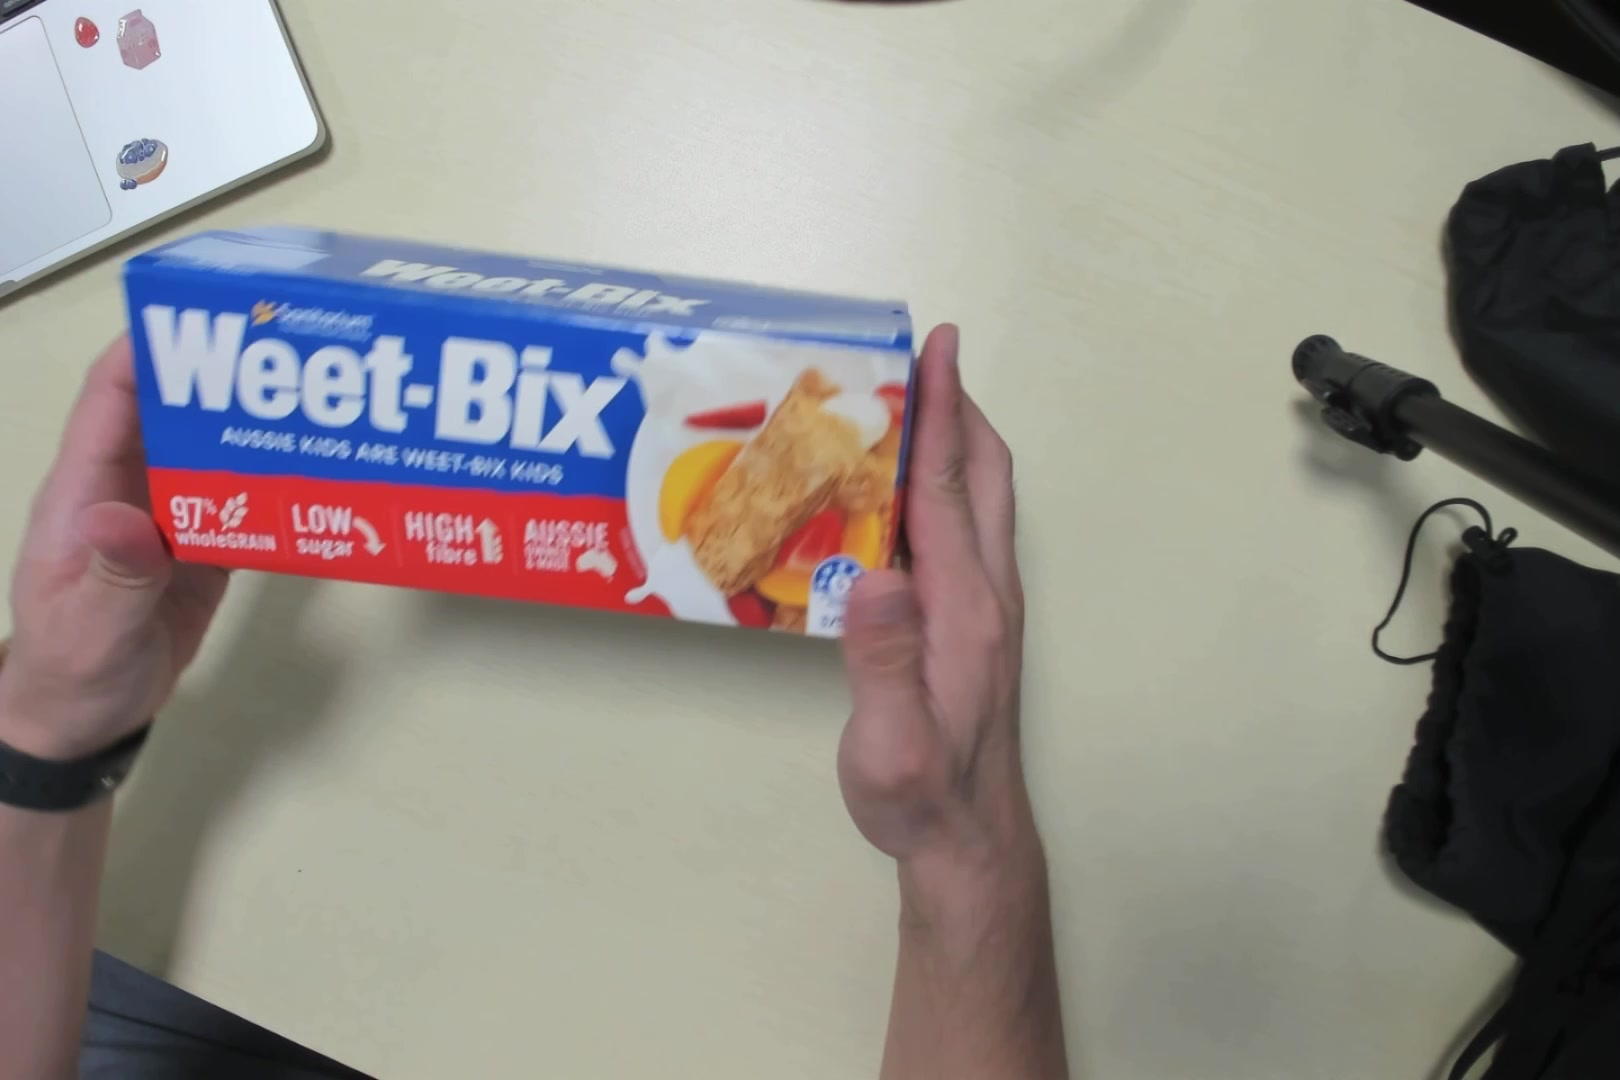BreakfastCereals_300-399g_NonHalal_NonHealthy: (131, 221, 900, 636)
